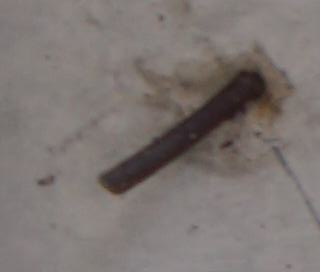Exposed reinforcement: (96, 72, 267, 196)
Spalling: (167, 47, 297, 178)
